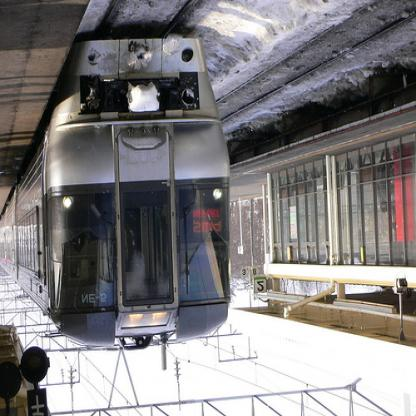train: (1, 38, 233, 350)
